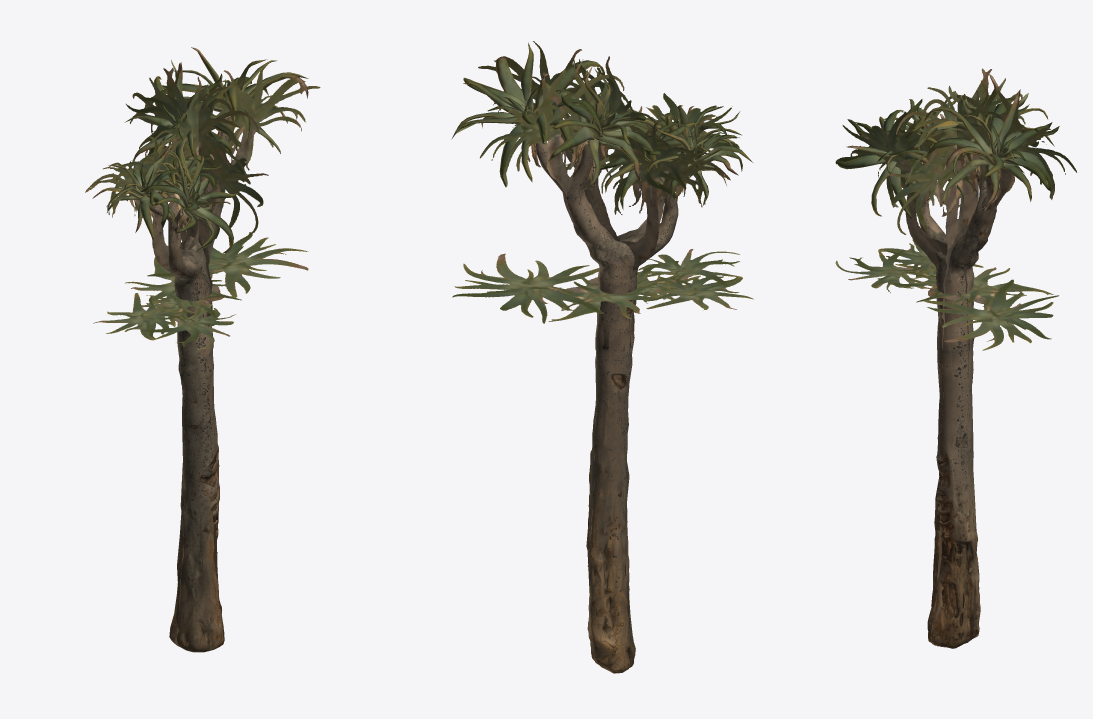
File: acacia.gltf
3 views of the same model, side by side, from view 1: azimuth 30°, elevation 25°; view 2: azimuth 150°, elevation 25°; view 3: azimuth 270°, elevation 25° (orthographic). The views are drawn at different scales.
Parts seen in each view (by area): view 1: acacia; view 2: acacia; view 3: acacia.
Part boxes in pixels (left/top/right/bottom): acacia: left=85, top=47, right=320, bottom=652; acacia: left=451, top=41, right=753, bottom=673; acacia: left=835, top=68, right=1076, bottom=648.
Bounding box in the file's own units: 2.93 × 6.5 × 2.51.
5 materials, 5 textured.
